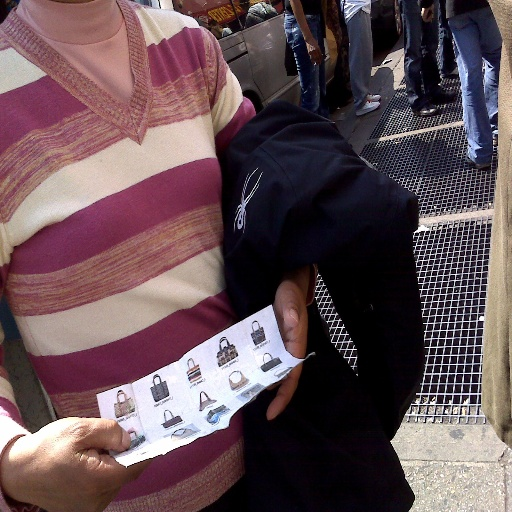hand: (4, 416, 153, 511), (268, 276, 309, 418), (306, 36, 323, 66), (419, 5, 434, 23)
